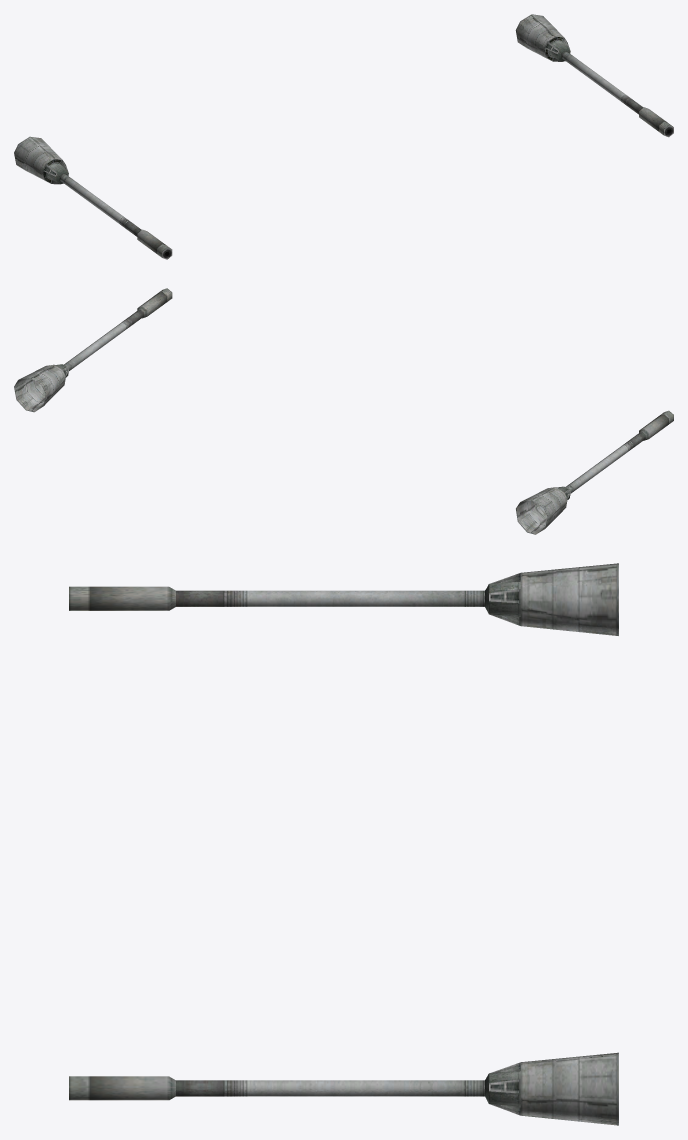
File: black_sun_fighter_light_weapon_s05_l0.fbx
The picture shows the model from 3 angles, top to bottom: view 1: azimuth 30°, elevation 25°; view 2: azimuth 150°, elevation 25°; view 3: azimuth 270°, elevation 25°; orthographic projection. The views are drawn at different scales.
Visible parts, largest first — view 1: mesh_node; view 2: mesh_node; view 3: mesh_node.
Part boxes in pixels (bbox=[...]): mesh_node: bbox=[14, 14, 673, 259]; mesh_node: bbox=[14, 288, 673, 534]; mesh_node: bbox=[69, 563, 618, 1125].
Size of the model in its own units: 11.72 by 0.6973 by 5.23.
1 material, 1 textured.
